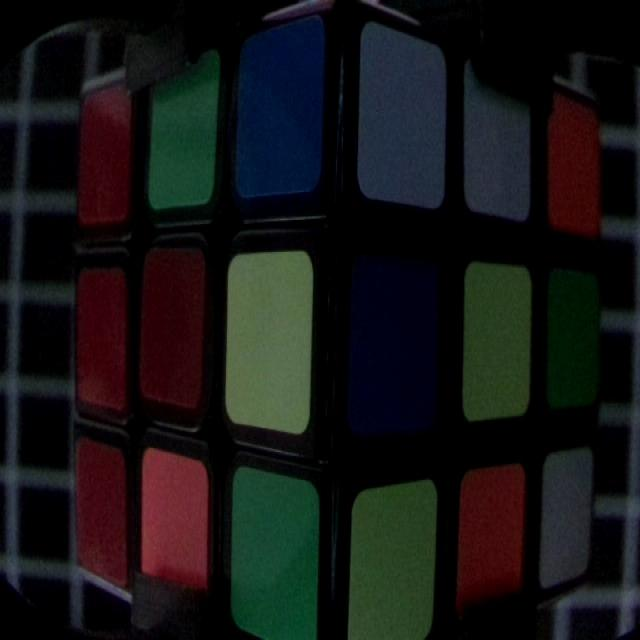b: (242, 20, 324, 188), (356, 261, 438, 419)
g: (234, 473, 320, 638), (154, 52, 217, 210), (548, 270, 594, 398)
o: (144, 455, 208, 619), (459, 473, 526, 610), (552, 97, 599, 224)
r: (144, 250, 202, 396), (74, 442, 126, 578), (82, 90, 134, 214), (81, 276, 123, 402)
w: (359, 26, 449, 202), (467, 68, 537, 217), (546, 452, 593, 572)
y: (228, 254, 311, 422), (352, 485, 441, 636), (465, 266, 531, 412)
